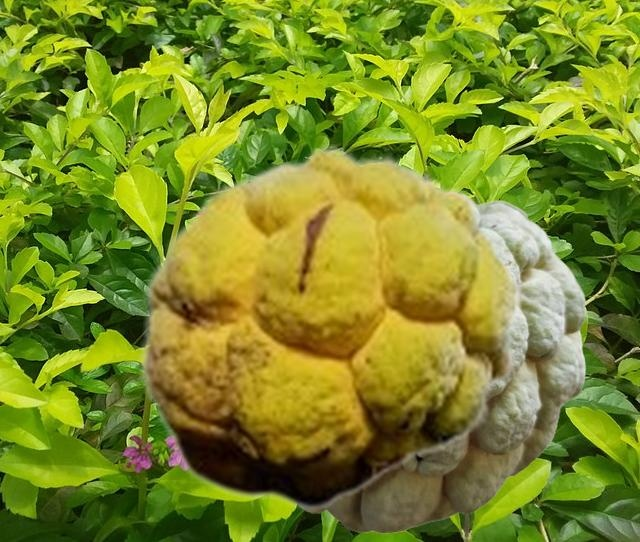atis: (137, 144, 523, 510), (303, 198, 585, 532)
